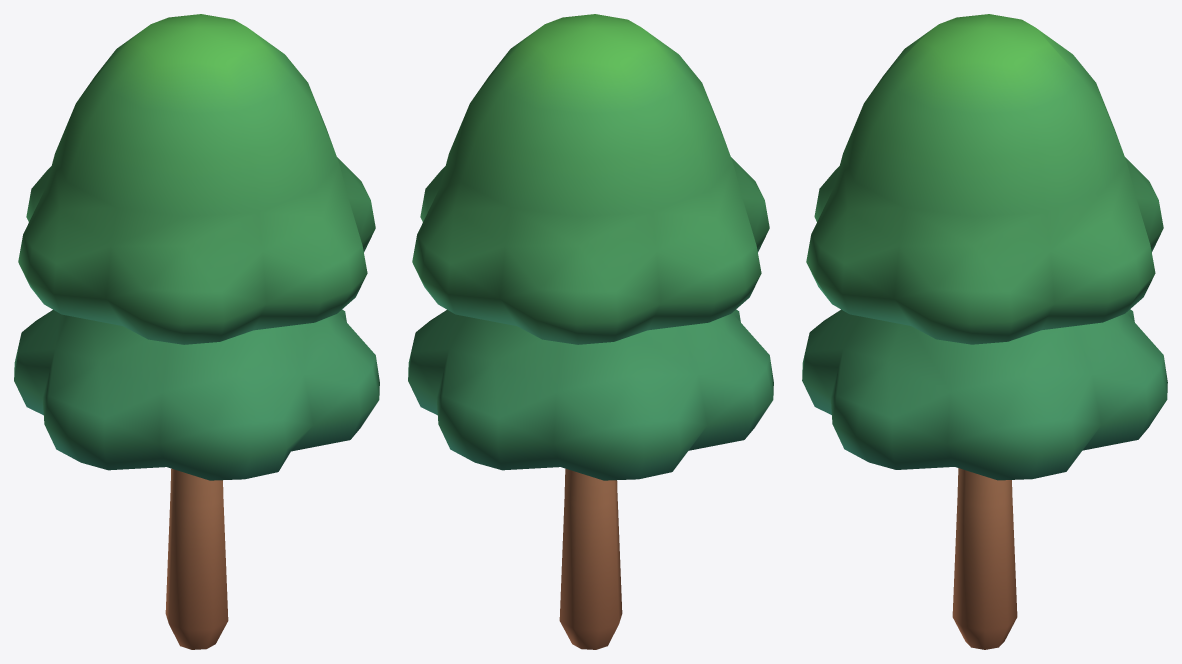
The model's file is Tree Large.glb.
3 renders of one model, left to right at view 1: azimuth 30°, elevation 25°; view 2: azimuth 150°, elevation 25°; view 3: azimuth 270°, elevation 25°, orthographic.
Parts seen in each view (by area): view 1: tree_large; view 2: tree_large; view 3: tree_large.
Part boxes in pixels (bbox=[...]): tree_large: bbox=[14, 14, 379, 649]; tree_large: bbox=[408, 14, 773, 649]; tree_large: bbox=[802, 14, 1167, 649].
Bounding box in the file's own units: 2.75 × 4.98 × 2.69.
1 material, 1 textured.
